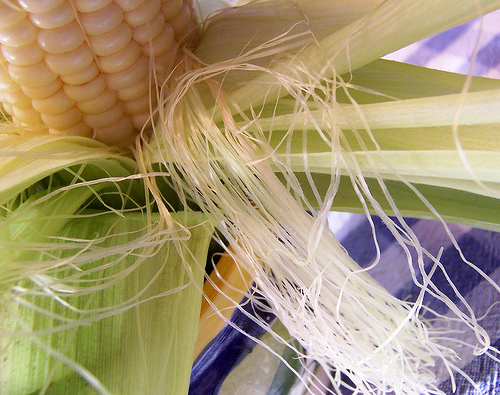corn: (0, 0, 203, 167)
